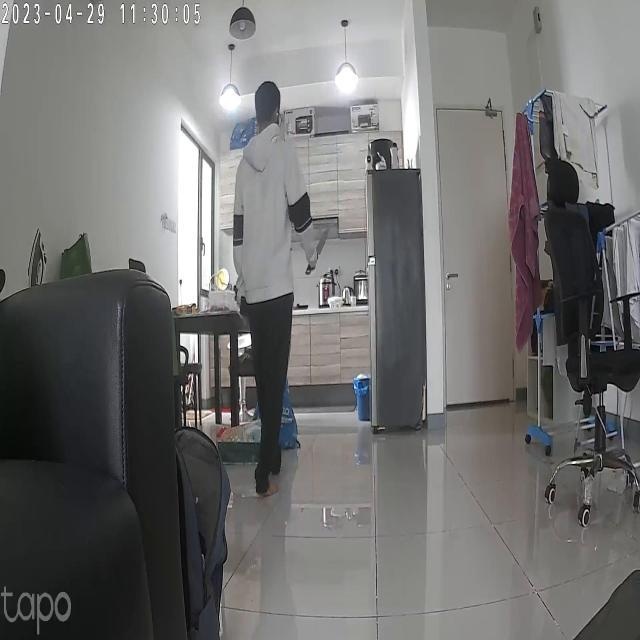Knife: (302, 217, 335, 285)
